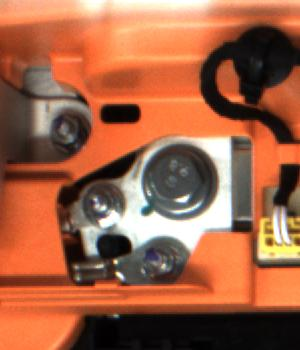nut_b: (141, 147, 215, 222)
screw_s: (83, 178, 120, 227), (43, 108, 79, 156), (143, 243, 181, 280)
